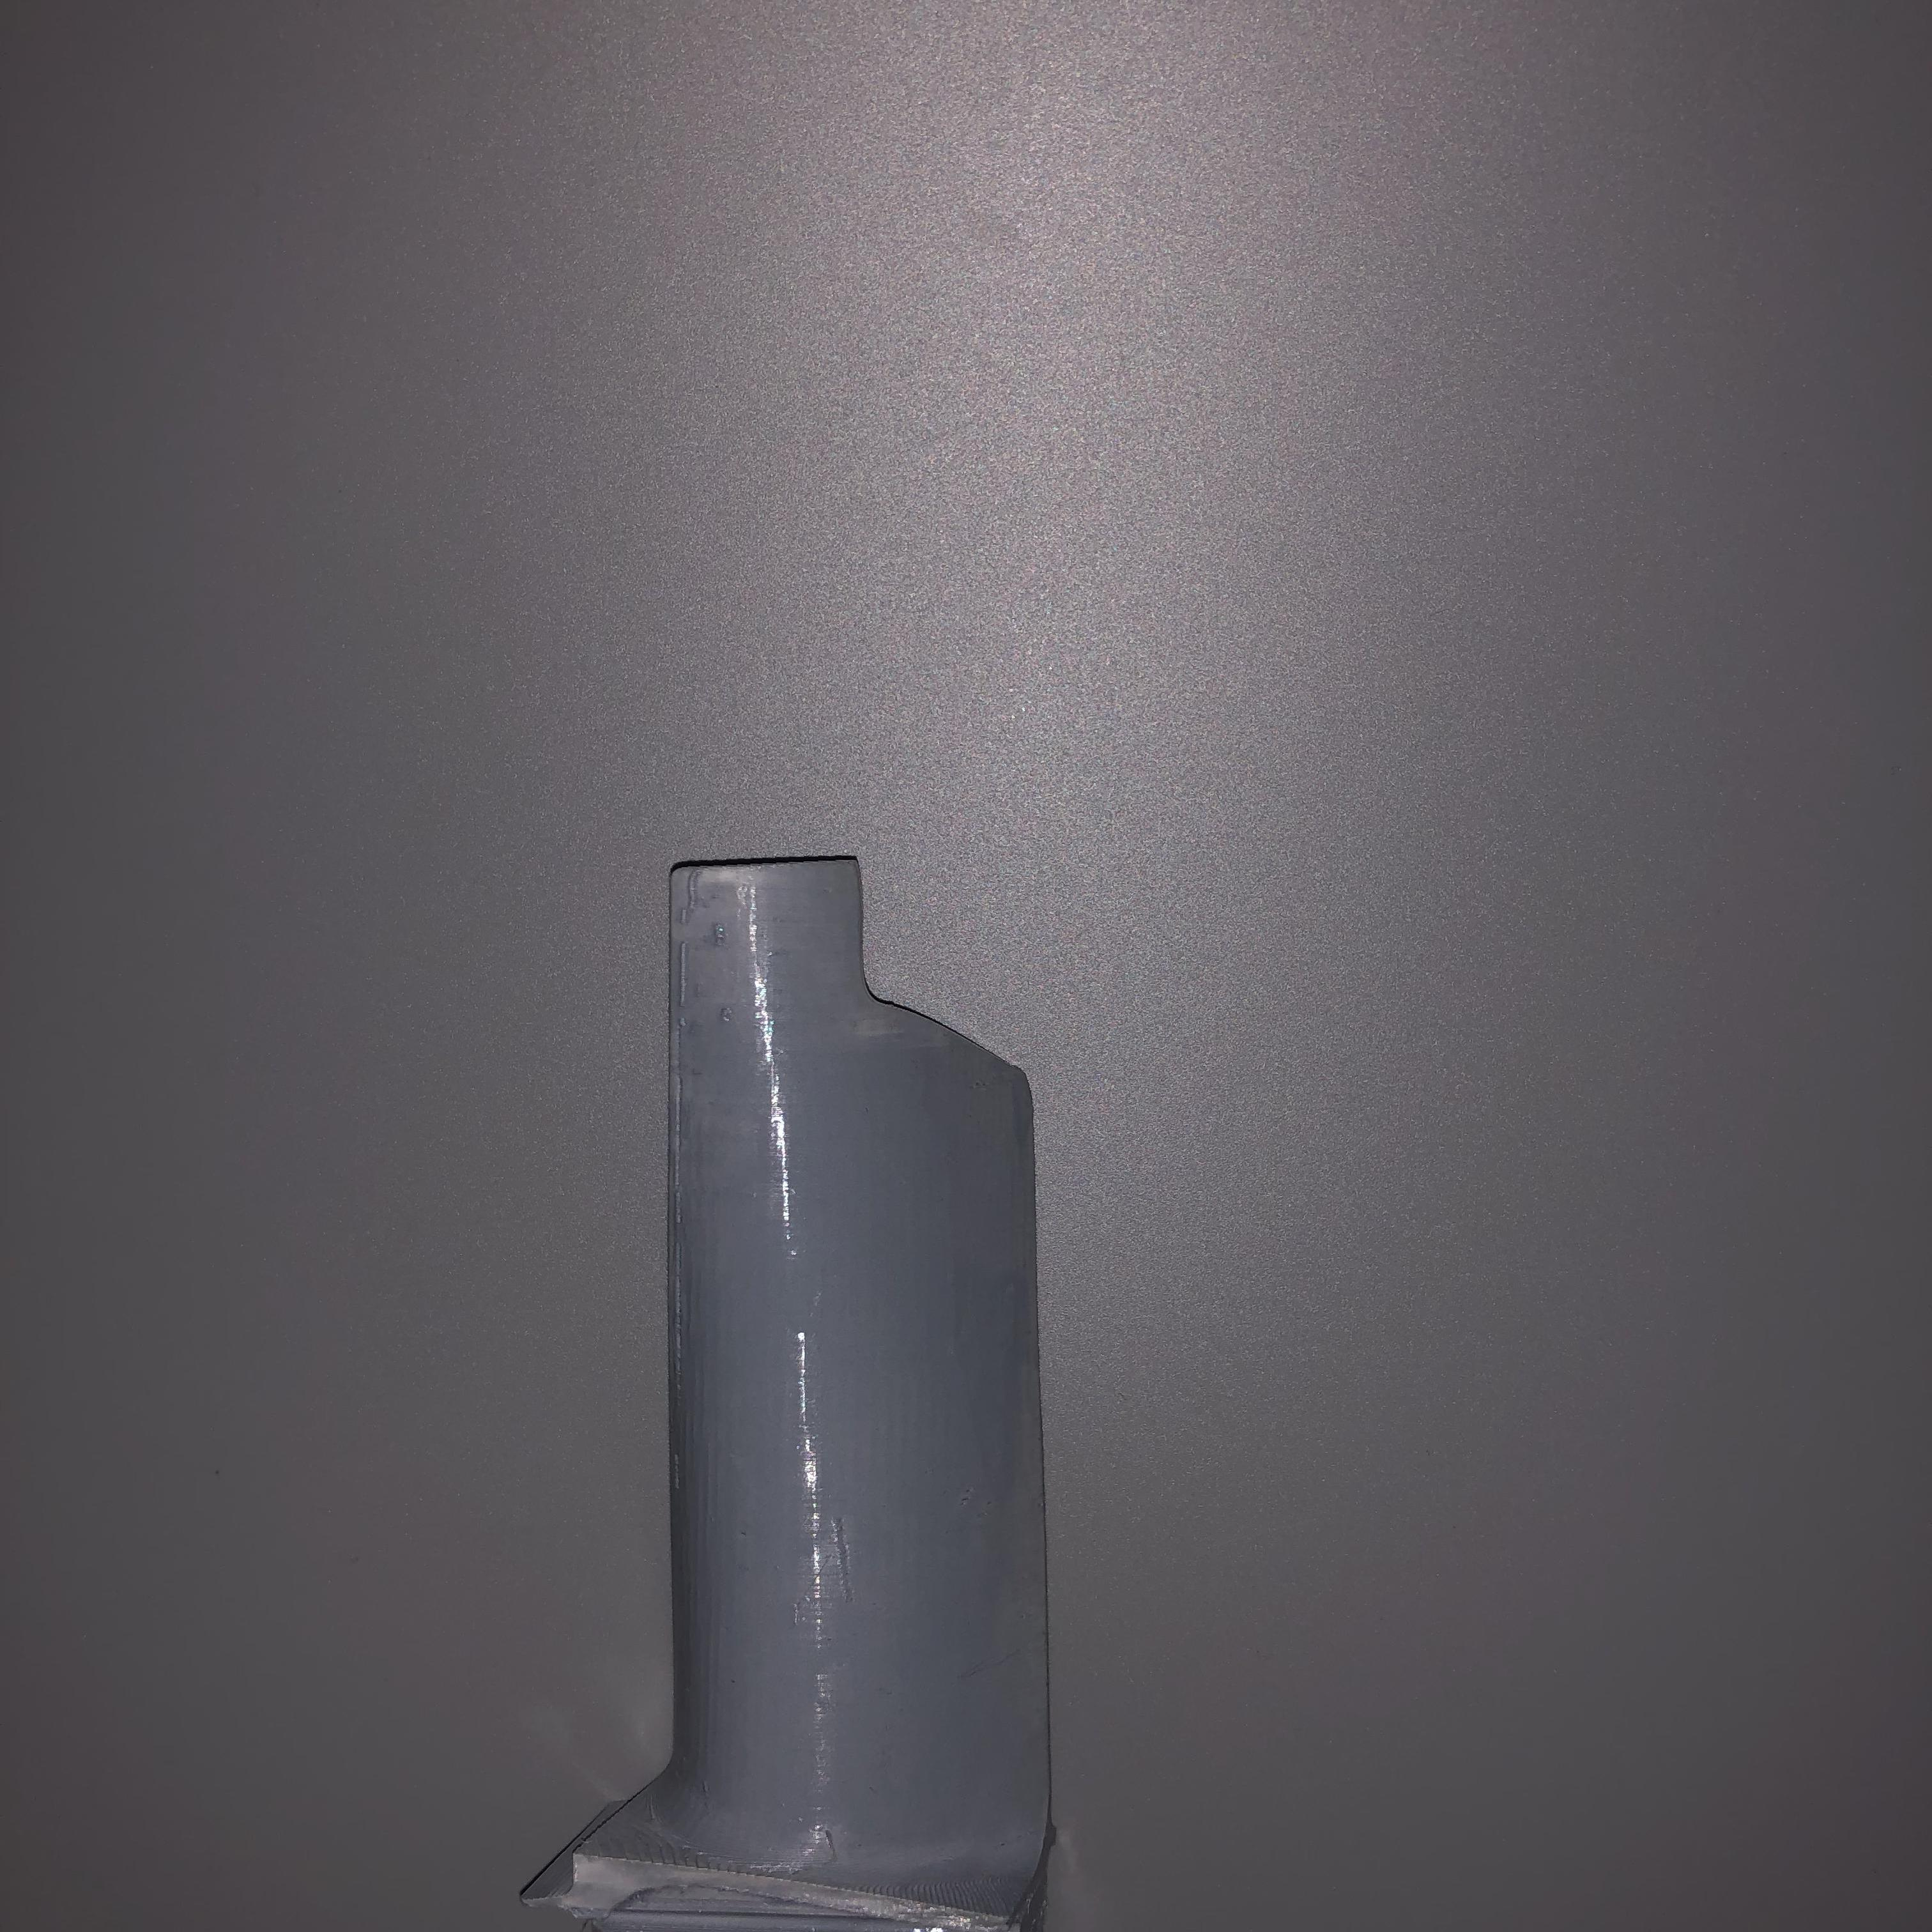fracture: (830, 874, 1017, 1088)
